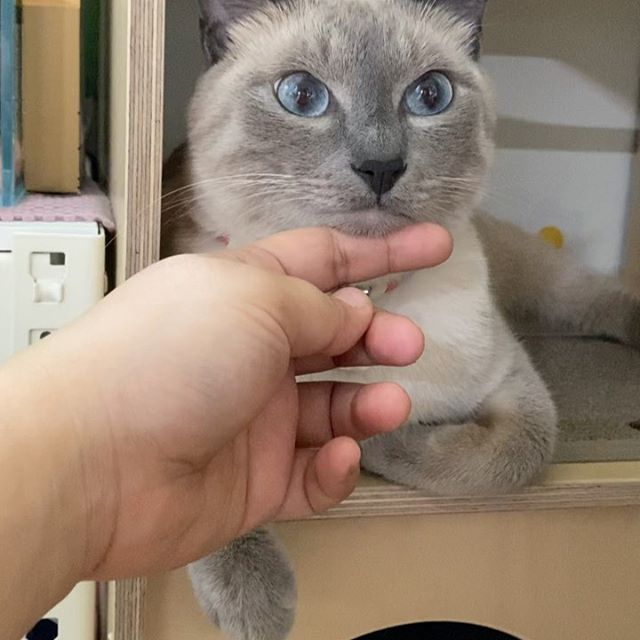cat: (198, 3, 501, 306)
